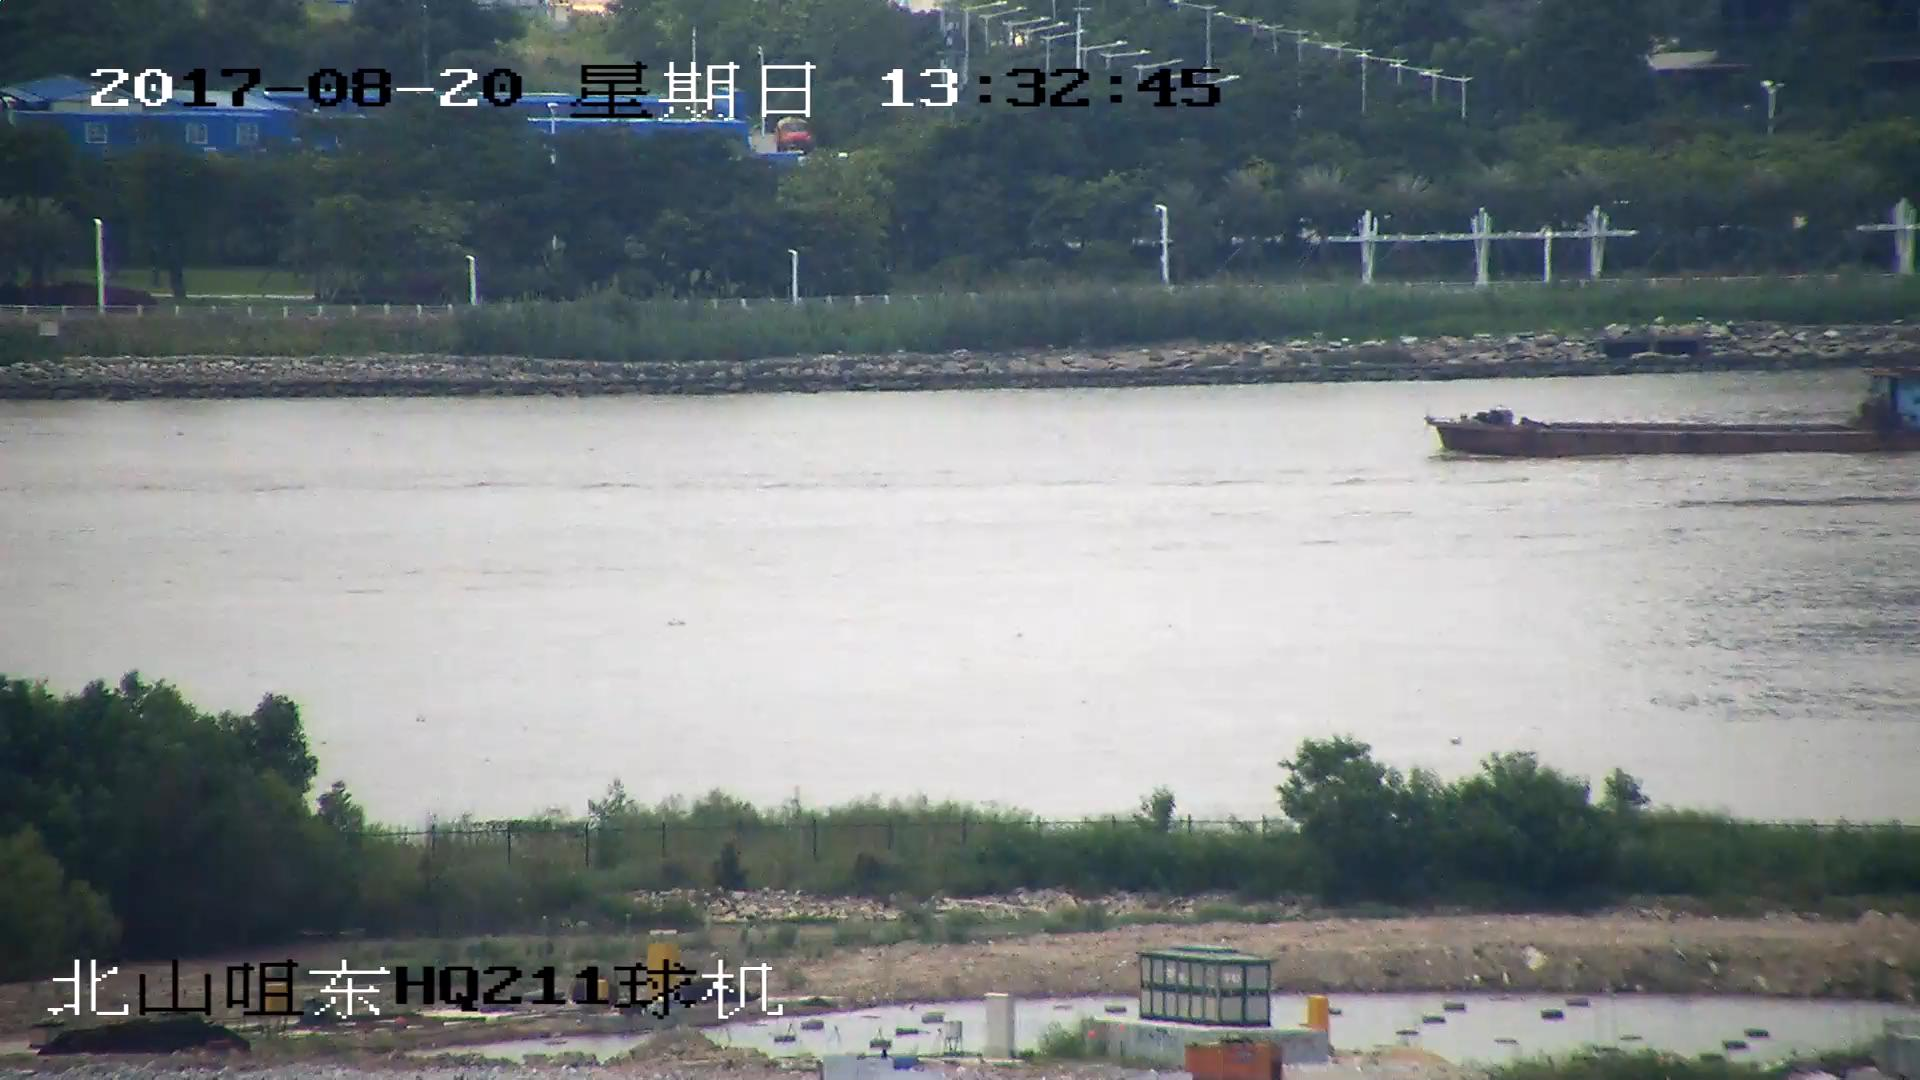bulk cargo carrier: (1435, 388, 1920, 453)
